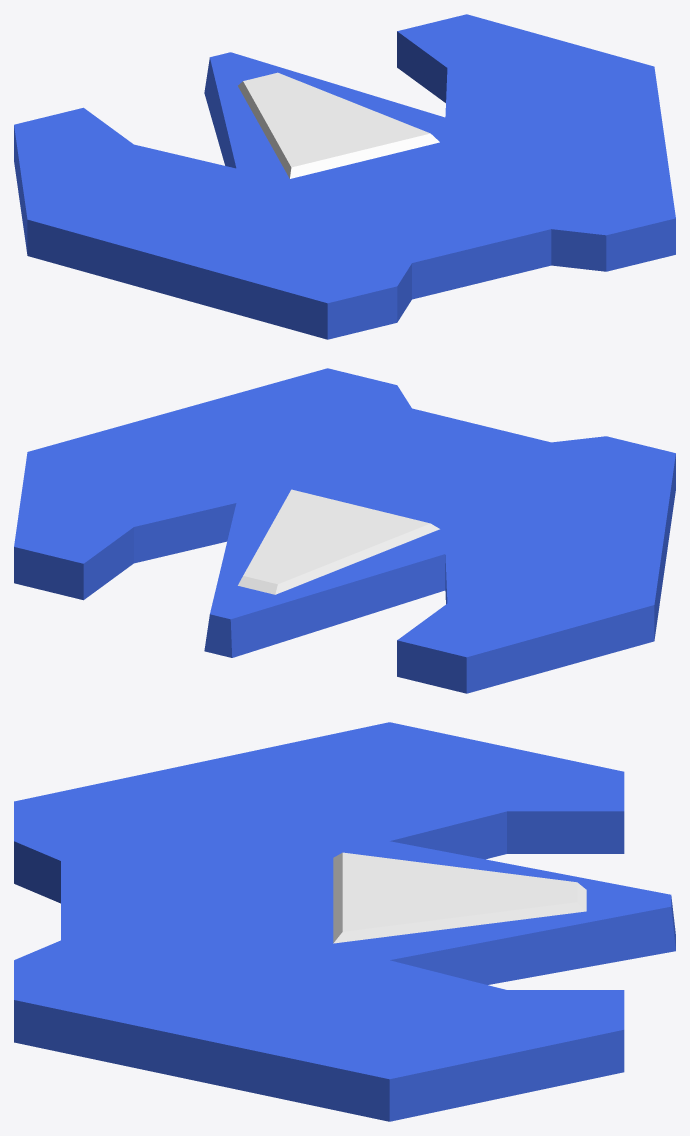
File: player.glb
The picture shows the model from 3 angles, top to bottom: view 1: azimuth 30°, elevation 25°; view 2: azimuth 150°, elevation 25°; view 3: azimuth 270°, elevation 25°; orthographic projection. The views are drawn at different scales.
Visible parts, largest first — view 1: player; view 2: player; view 3: player.
Boxes of the visible parts, x1,y1,x2,y2 form: player: (14,14,675,339); player: (14,368,675,693); player: (14,722,675,1121).
Bounding box in the file's own units: 1.8 × 0.12 × 1.41.
